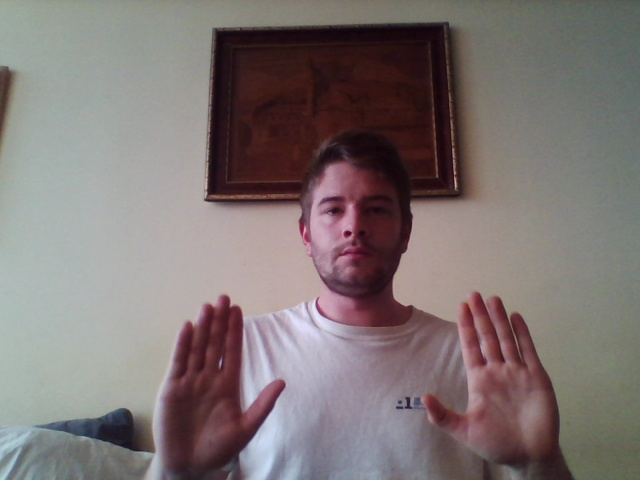prekrasno: (151, 286, 565, 473)
